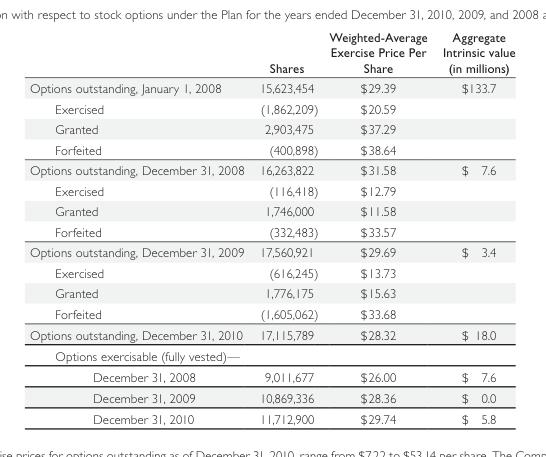table: (29, 29, 514, 426)
table column: (29, 29, 251, 426), (323, 29, 434, 426), (434, 29, 514, 426), (251, 29, 323, 426)
table column header: (29, 29, 514, 77)
table projected row header: (29, 344, 514, 366)
table row: (29, 29, 514, 77), (29, 344, 514, 366), (29, 77, 514, 98), (29, 118, 514, 139), (29, 159, 514, 180), (29, 200, 514, 221), (29, 241, 514, 262), (29, 262, 514, 283), (29, 303, 514, 324), (29, 366, 514, 387), (29, 387, 514, 408), (29, 98, 514, 118), (29, 139, 514, 159), (29, 180, 514, 200), (29, 221, 514, 241), (29, 283, 514, 303), (29, 324, 514, 344), (29, 408, 514, 426)
